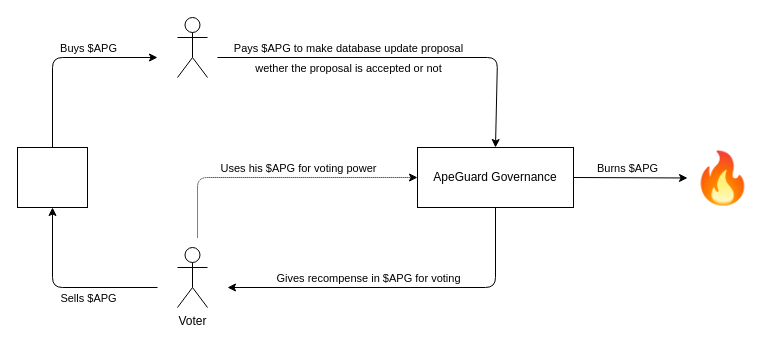
Image size: 775x346. Some labels were removed from this diagram. Here are the shapes that lost their labels. From the top down, the centre of each, then its label:
(x=192, y=47): Proposer
(x=52, y=177): DEX
